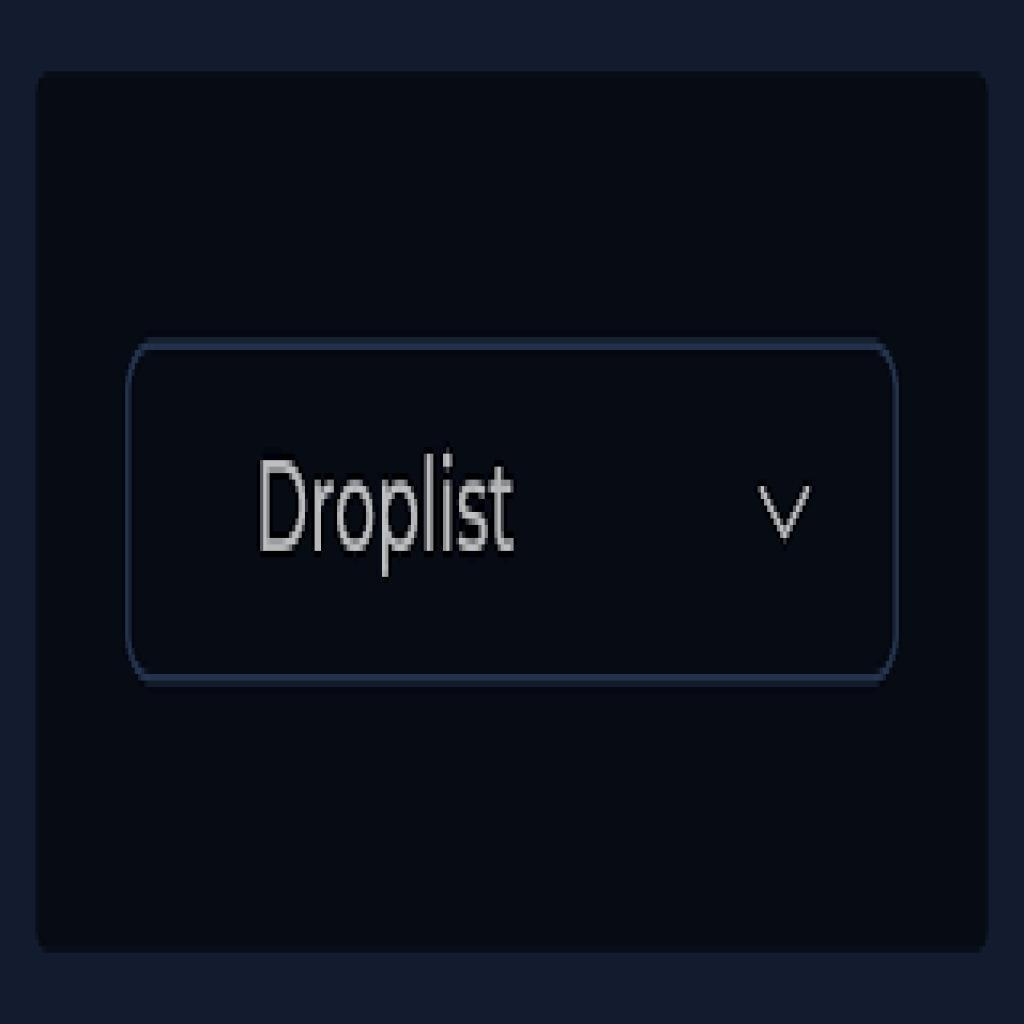dropdown: (124, 336, 901, 688)
